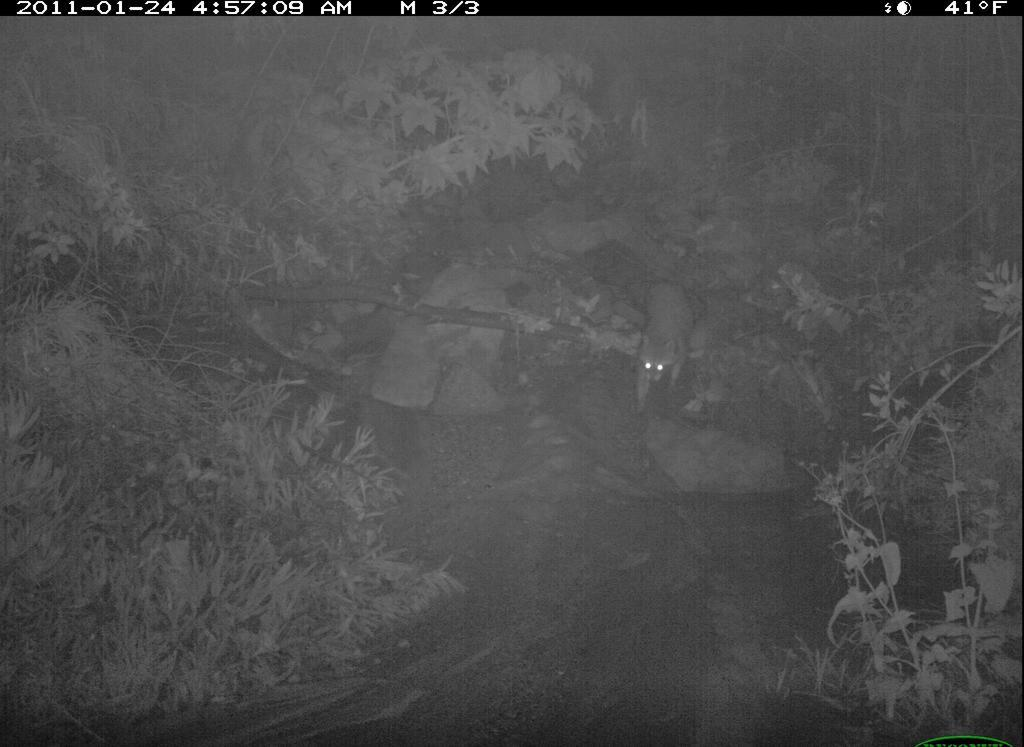raccoon: (611, 259, 702, 413)
